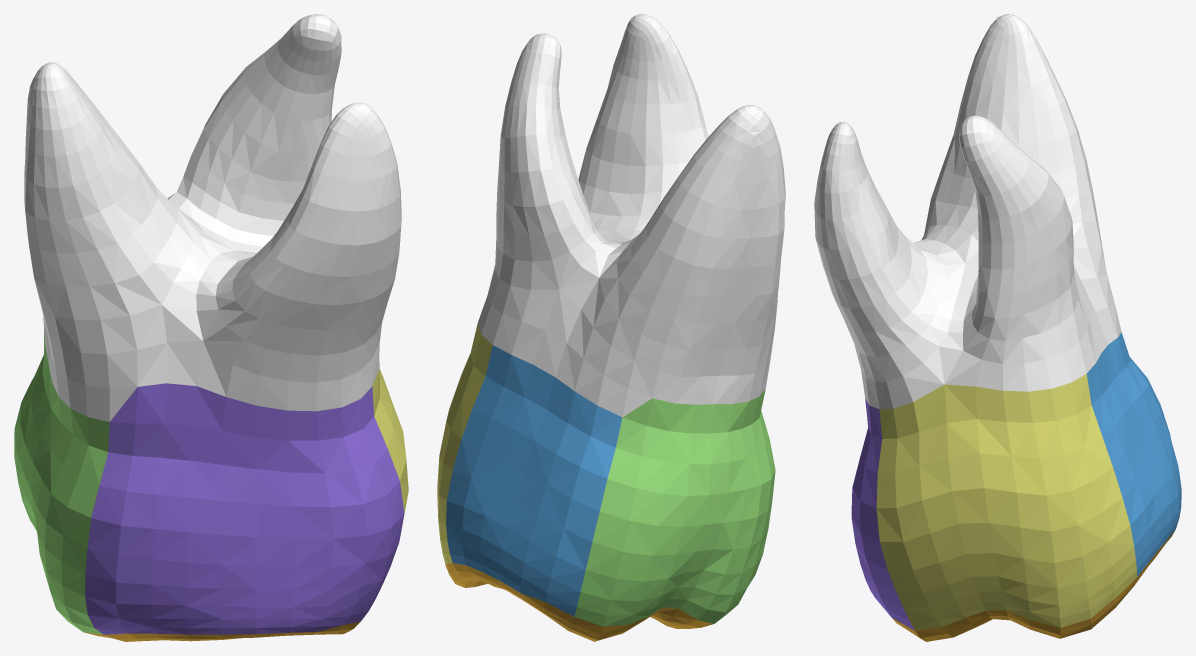
The model's file is tooth_26_annotated.glb.
3 views of the same model, side by side, from view 1: azimuth 30°, elevation 25°; view 2: azimuth 150°, elevation 25°; view 3: azimuth 270°, elevation 25° (orthographic). The views are drawn at different scales.
Visible parts, largest first — view 1: FDI_26; view 2: FDI_26; view 3: FDI_26.
Part boxes in pixels (<box>): FDI_26: <box>14,14,408,641</box>; FDI_26: <box>437,14,785,641</box>; FDI_26: <box>814,14,1181,641</box>.
Size of the model in its own units: 0.0112 by 0.0183 by 0.0116.
